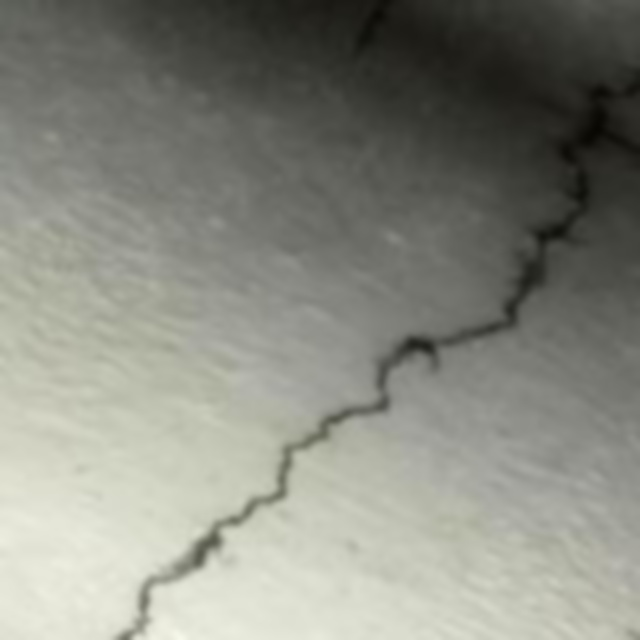SurfaceCrack: (96, 56, 640, 640)
